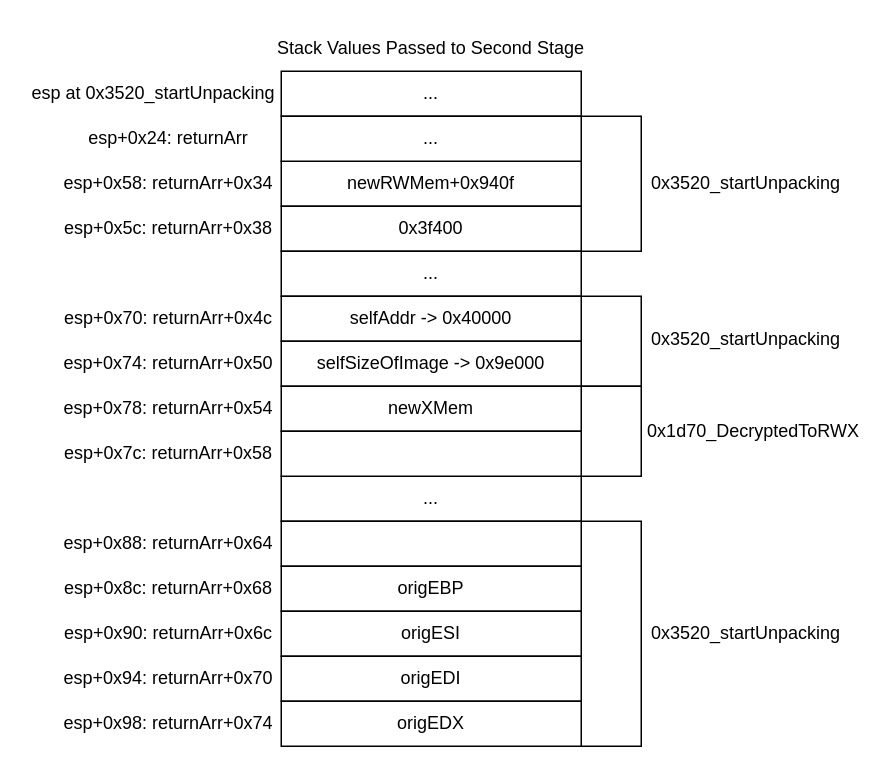
The diagram is 891 pixels wide and 774 high, and some of its shapes have lost their labels. Each missing label, with the centre of its shape:
newXMem-0x40000: the point at 430,453
origESP: the point at 430,543
